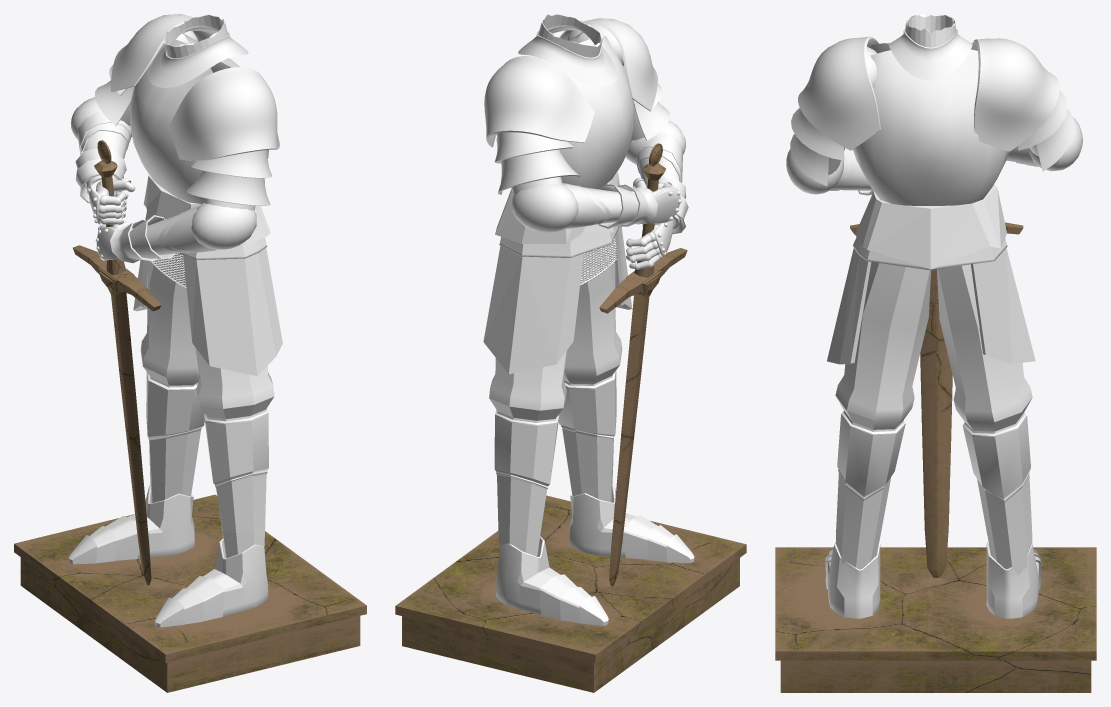
The picture shows the model from 3 angles, left to right: view 1: azimuth 30°, elevation 25°; view 2: azimuth 150°, elevation 25°; view 3: azimuth 270°, elevation 25°; orthographic projection. The views are drawn at different scales.
Parts seen in each view (by area): view 1: platorm, legs, right, waist, shoes, torso, left, sword; view 2: platorm, legs, left, waist, shoes, torso, right, sword; view 3: platorm, legs, torso, waist, right, left, sword, shoes.
Part boxes in pixels (bbox=[...]): platorm: bbox=[14, 494, 366, 692]; legs: bbox=[140, 255, 274, 558]; right: bbox=[95, 67, 279, 263]; waist: bbox=[133, 174, 282, 376]; shoes: bbox=[69, 484, 268, 627]; torso: bbox=[130, 14, 268, 204]; left: bbox=[71, 14, 212, 224]; sword: bbox=[73, 140, 160, 585]; platorm: bbox=[395, 495, 746, 692]; legs: bbox=[489, 253, 622, 556]; left: bbox=[484, 56, 681, 232]; waist: bbox=[483, 171, 632, 374]; shoes: bbox=[496, 484, 694, 625]; torso: bbox=[496, 14, 634, 189]; right: bbox=[559, 18, 688, 269]; sword: bbox=[599, 143, 687, 586]; platorm: bbox=[775, 547, 1096, 692]; legs: bbox=[835, 262, 1032, 575]; torso: bbox=[853, 14, 1009, 205]; waist: bbox=[827, 184, 1035, 364]; right: bbox=[786, 36, 880, 195]; left: bbox=[973, 38, 1082, 171]; sword: bbox=[850, 222, 1023, 577]; shoes: bbox=[825, 542, 1041, 618].
Bounding box in the file's own units: 0.7221 × 2 × 0.9253.
Materials: 8 (2 with a texture image).
